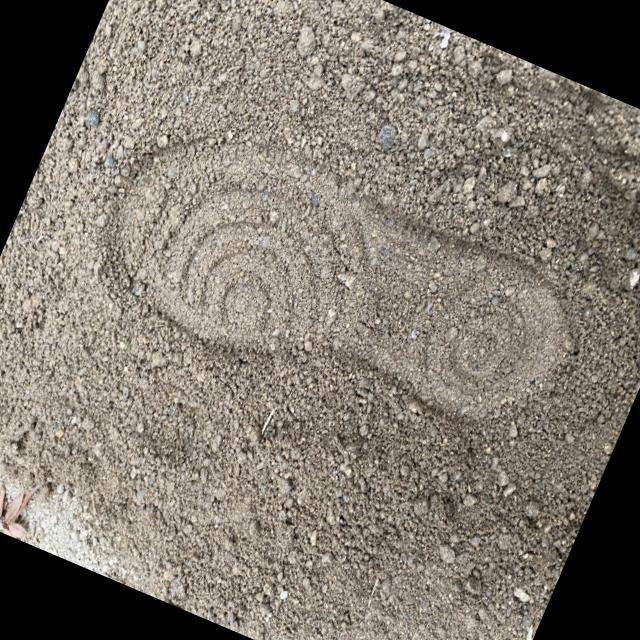human_footprint: (54, 89, 610, 507)
